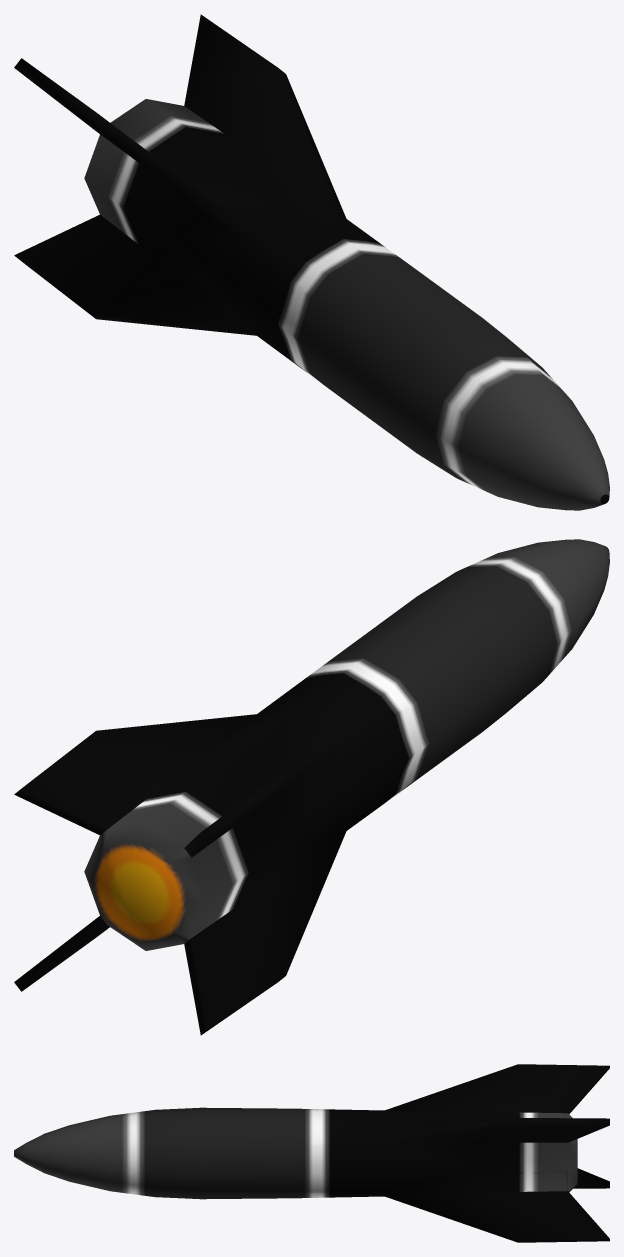
The model's file is BasicMissile.fbx.
The picture shows the model from 3 angles, top to bottom: view 1: azimuth 30°, elevation 25°; view 2: azimuth 150°, elevation 25°; view 3: azimuth 270°, elevation 25°; orthographic projection. The views are drawn at different scales.
Parts seen in each view (by area): view 1: Cylinder; view 2: Cylinder; view 3: Cylinder.
Part boxes in pixels (x1=…): Cylinder: x1=14, y1=14, x2=609, y2=510; Cylinder: x1=14, y1=539, x2=609, y2=1035; Cylinder: x1=14, y1=1064, x2=609, y2=1242.
Size of the model in its own units: 300 by 300 by 1299.
